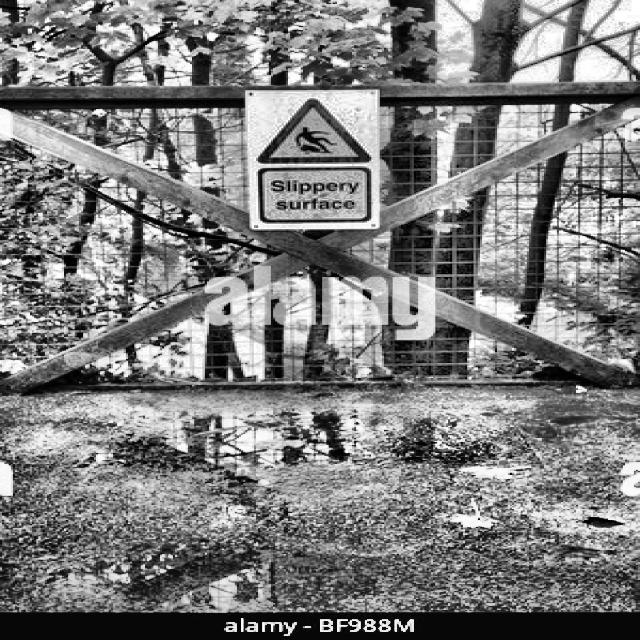slippery ground: (121, 381, 460, 559)
